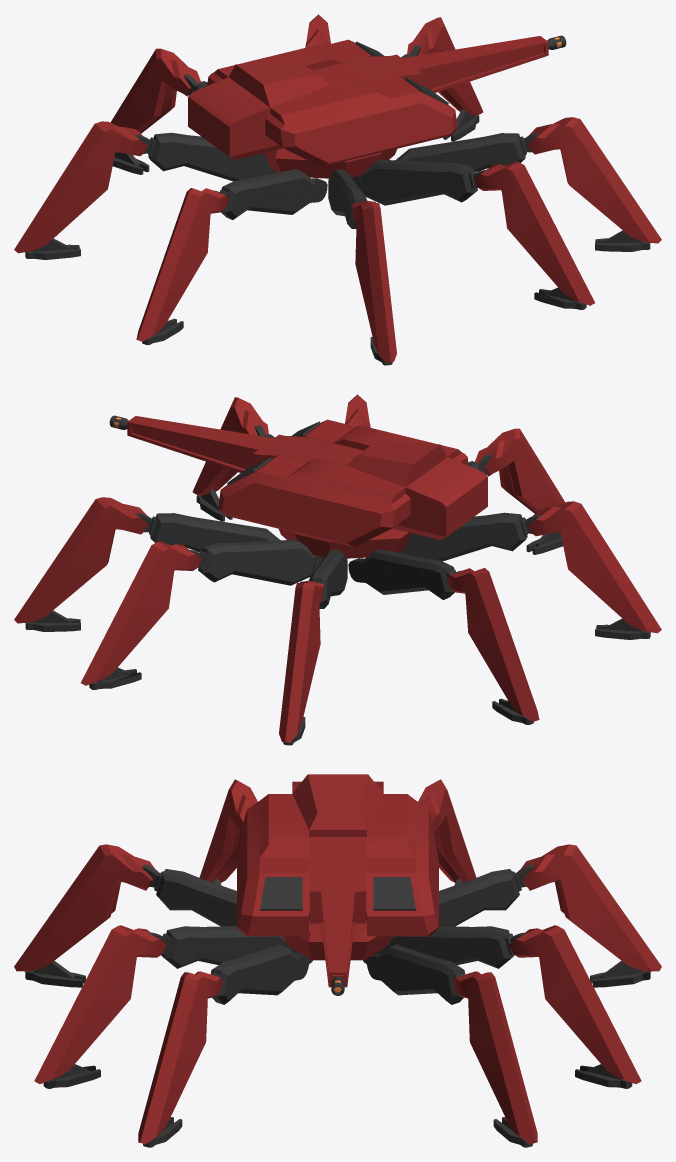
Rendered from Enemy.fbx.
3 views of the same model, one above another, from view 1: azimuth 30°, elevation 25°; view 2: azimuth 150°, elevation 25°; view 3: azimuth 270°, elevation 25° (orthographic). The views are drawn at different scales.
Parts seen in each view (by area): view 1: Cube.073, Cube.074, Cube.079, Cube.095, Cube.096, Cube.093, Cube.100, Cube.097, Cube.085, Cube.080, Cube.099, Cube.098 (+9 smaller); view 2: Cube.073, Cube.074, Cube.093, Cube.076, Cube.082, Cube.079, Cube.083, Cube.085, Cube.097, Cube.099, Cube.080, Cube.077 (+9 smaller); view 3: Cube.073, Cube.082, Cube.096, Cube.074, Cube.085, Cube.097, Cube.076, Cube.095, Cube.077, Cube.098, Cube.083, Cube.100 (+9 smaller).
Part boxes in pixels (x1,y1,x2,y2): Cube.073: (188,39,457,167); Cube.074: (312,36,548,92); Cube.079: (14,121,147,253); Cube.095: (527,117,661,243); Cube.096: (474,161,594,305); Cube.093: (136,188,228,341); Cube.100: (352,159,487,205); Cube.097: (352,200,396,362); Cube.085: (110,48,200,133); Cube.080: (134,132,277,181); Cube.099: (214,169,327,219); Cube.098: (395,132,539,172); Cube.073: (218,419,487,547); Cube.074: (127,416,363,472); Cube.093: (528,501,661,633); Cube.076: (14,497,148,623); Cube.082: (81,541,201,685); Cube.079: (447,568,539,721); Cube.083: (188,539,323,585); Cube.085: (279,580,323,742); Cube.097: (475,428,565,513); Cube.099: (398,512,541,561); Cube.080: (348,549,461,599); Cube.077: (136,512,280,552); Cube.073: (237,774,438,936); Cube.082: (509,925,641,1083); Cube.096: (34,925,166,1083); Cube.074: (309,837,366,987); Cube.085: (521,844,661,971); Cube.097: (14,844,154,971); Cube.076: (453,971,537,1144); Cube.095: (138,971,222,1144); Cube.077: (366,944,465,1004); Cube.098: (210,944,309,1004); Cube.083: (363,926,527,968); Cube.100: (148,926,312,968).
Bounding box in the file's own units: 311 × 111 × 320.
Materials: 1 (1 with a texture image).
